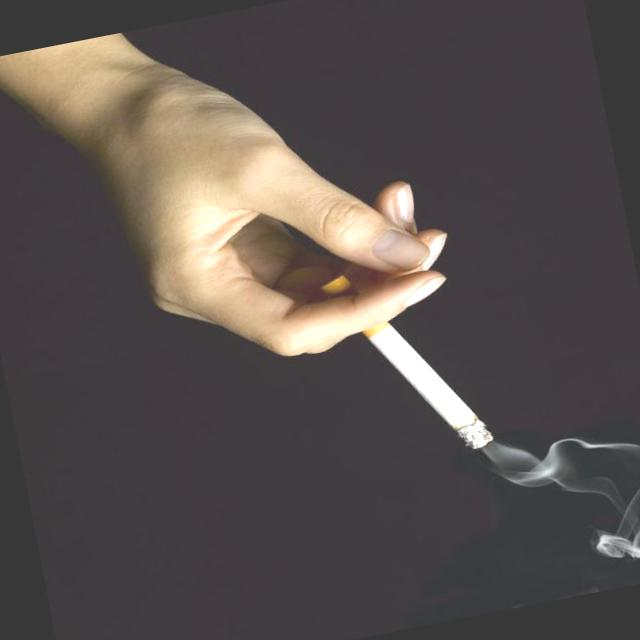smoke: (356, 306, 502, 468)
